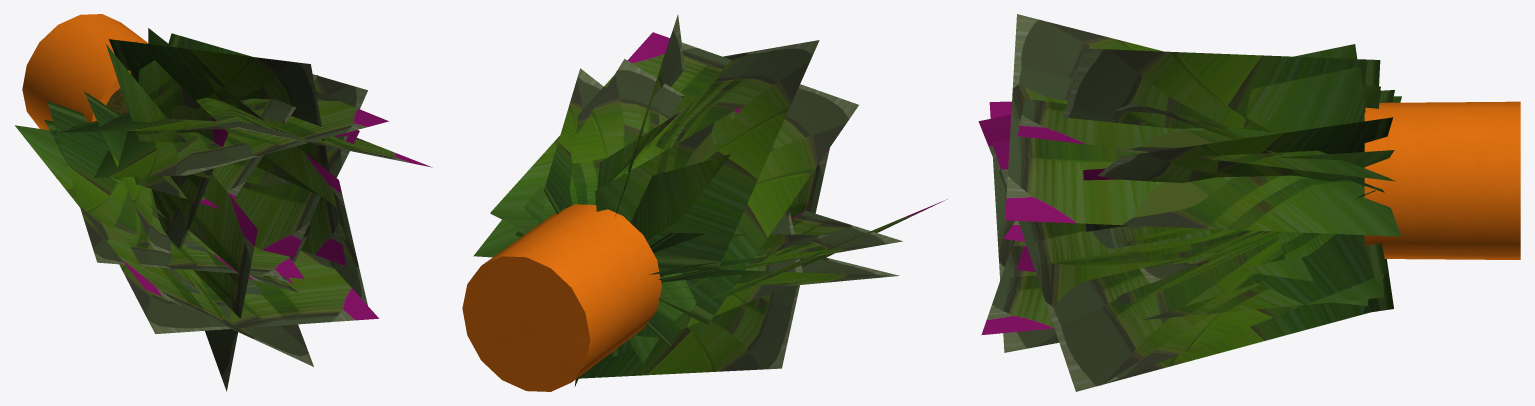
The picture shows the model from 3 angles, left to right: view 1: azimuth 30°, elevation 25°; view 2: azimuth 150°, elevation 25°; view 3: azimuth 270°, elevation 25°; orthographic projection. The views are drawn at different scales.
Parts seen in each view (by area): view 1: Pot_2_Low_PolyPlant_0; view 2: Pot_2_Low_PolyPlant_0; view 3: Pot_2_Low_PolyPlant_0.
Boxes of the visible parts, left/top/right/bottom form: Pot_2_Low_PolyPlant_0: left=15, top=14, right=432, bottom=391; Pot_2_Low_PolyPlant_0: left=462, top=15, right=947, bottom=391; Pot_2_Low_PolyPlant_0: left=978, top=14, right=1520, bottom=391.
Size of the model in its own units: 1.1 by 1.07 by 1.46.
1 material, 1 textured.
